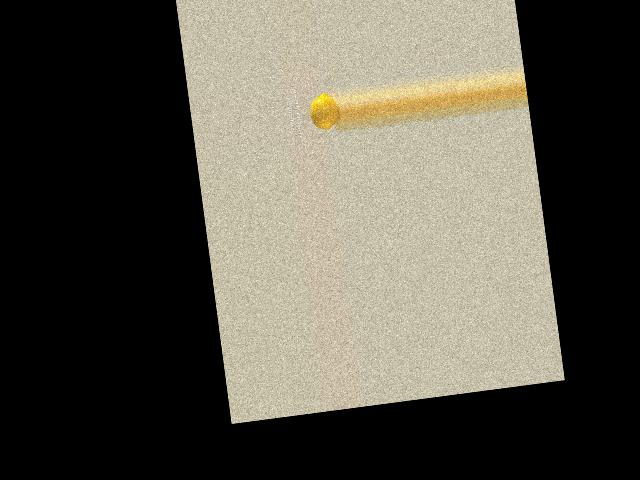lemon: (306, 91, 339, 132)
